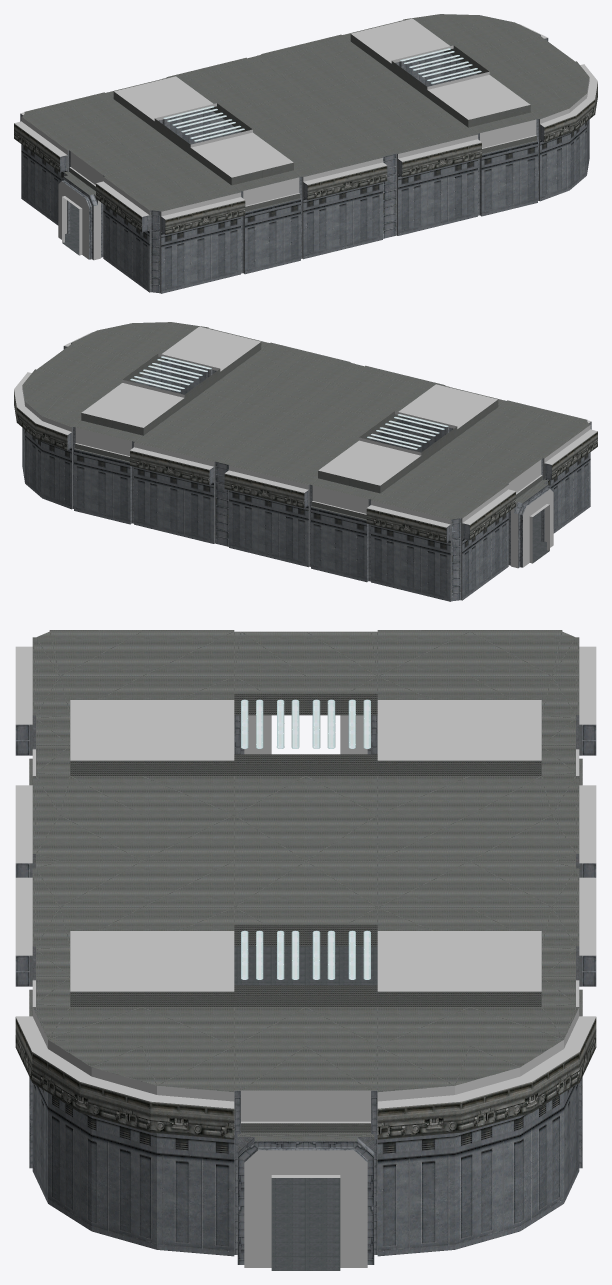
The model's file is poi_all_impl_bunker_warren_s01_r41_smallroom41_mesh_r41.fbx.
3 views of the same model, one above another, from view 1: azimuth 30°, elevation 25°; view 2: azimuth 150°, elevation 25°; view 3: azimuth 270°, elevation 25° (orthographic). The views are drawn at different scales.
Visible parts, largest first — view 1: mesh_node; view 2: mesh_node; view 3: mesh_node.
Boxes of the visible parts, x1,y1,x2,y2 form: mesh_node: [14, 14, 597, 293]; mesh_node: [14, 322, 597, 601]; mesh_node: [15, 630, 596, 1270].
Size of the model in its own units: 34 by 6 by 17.
